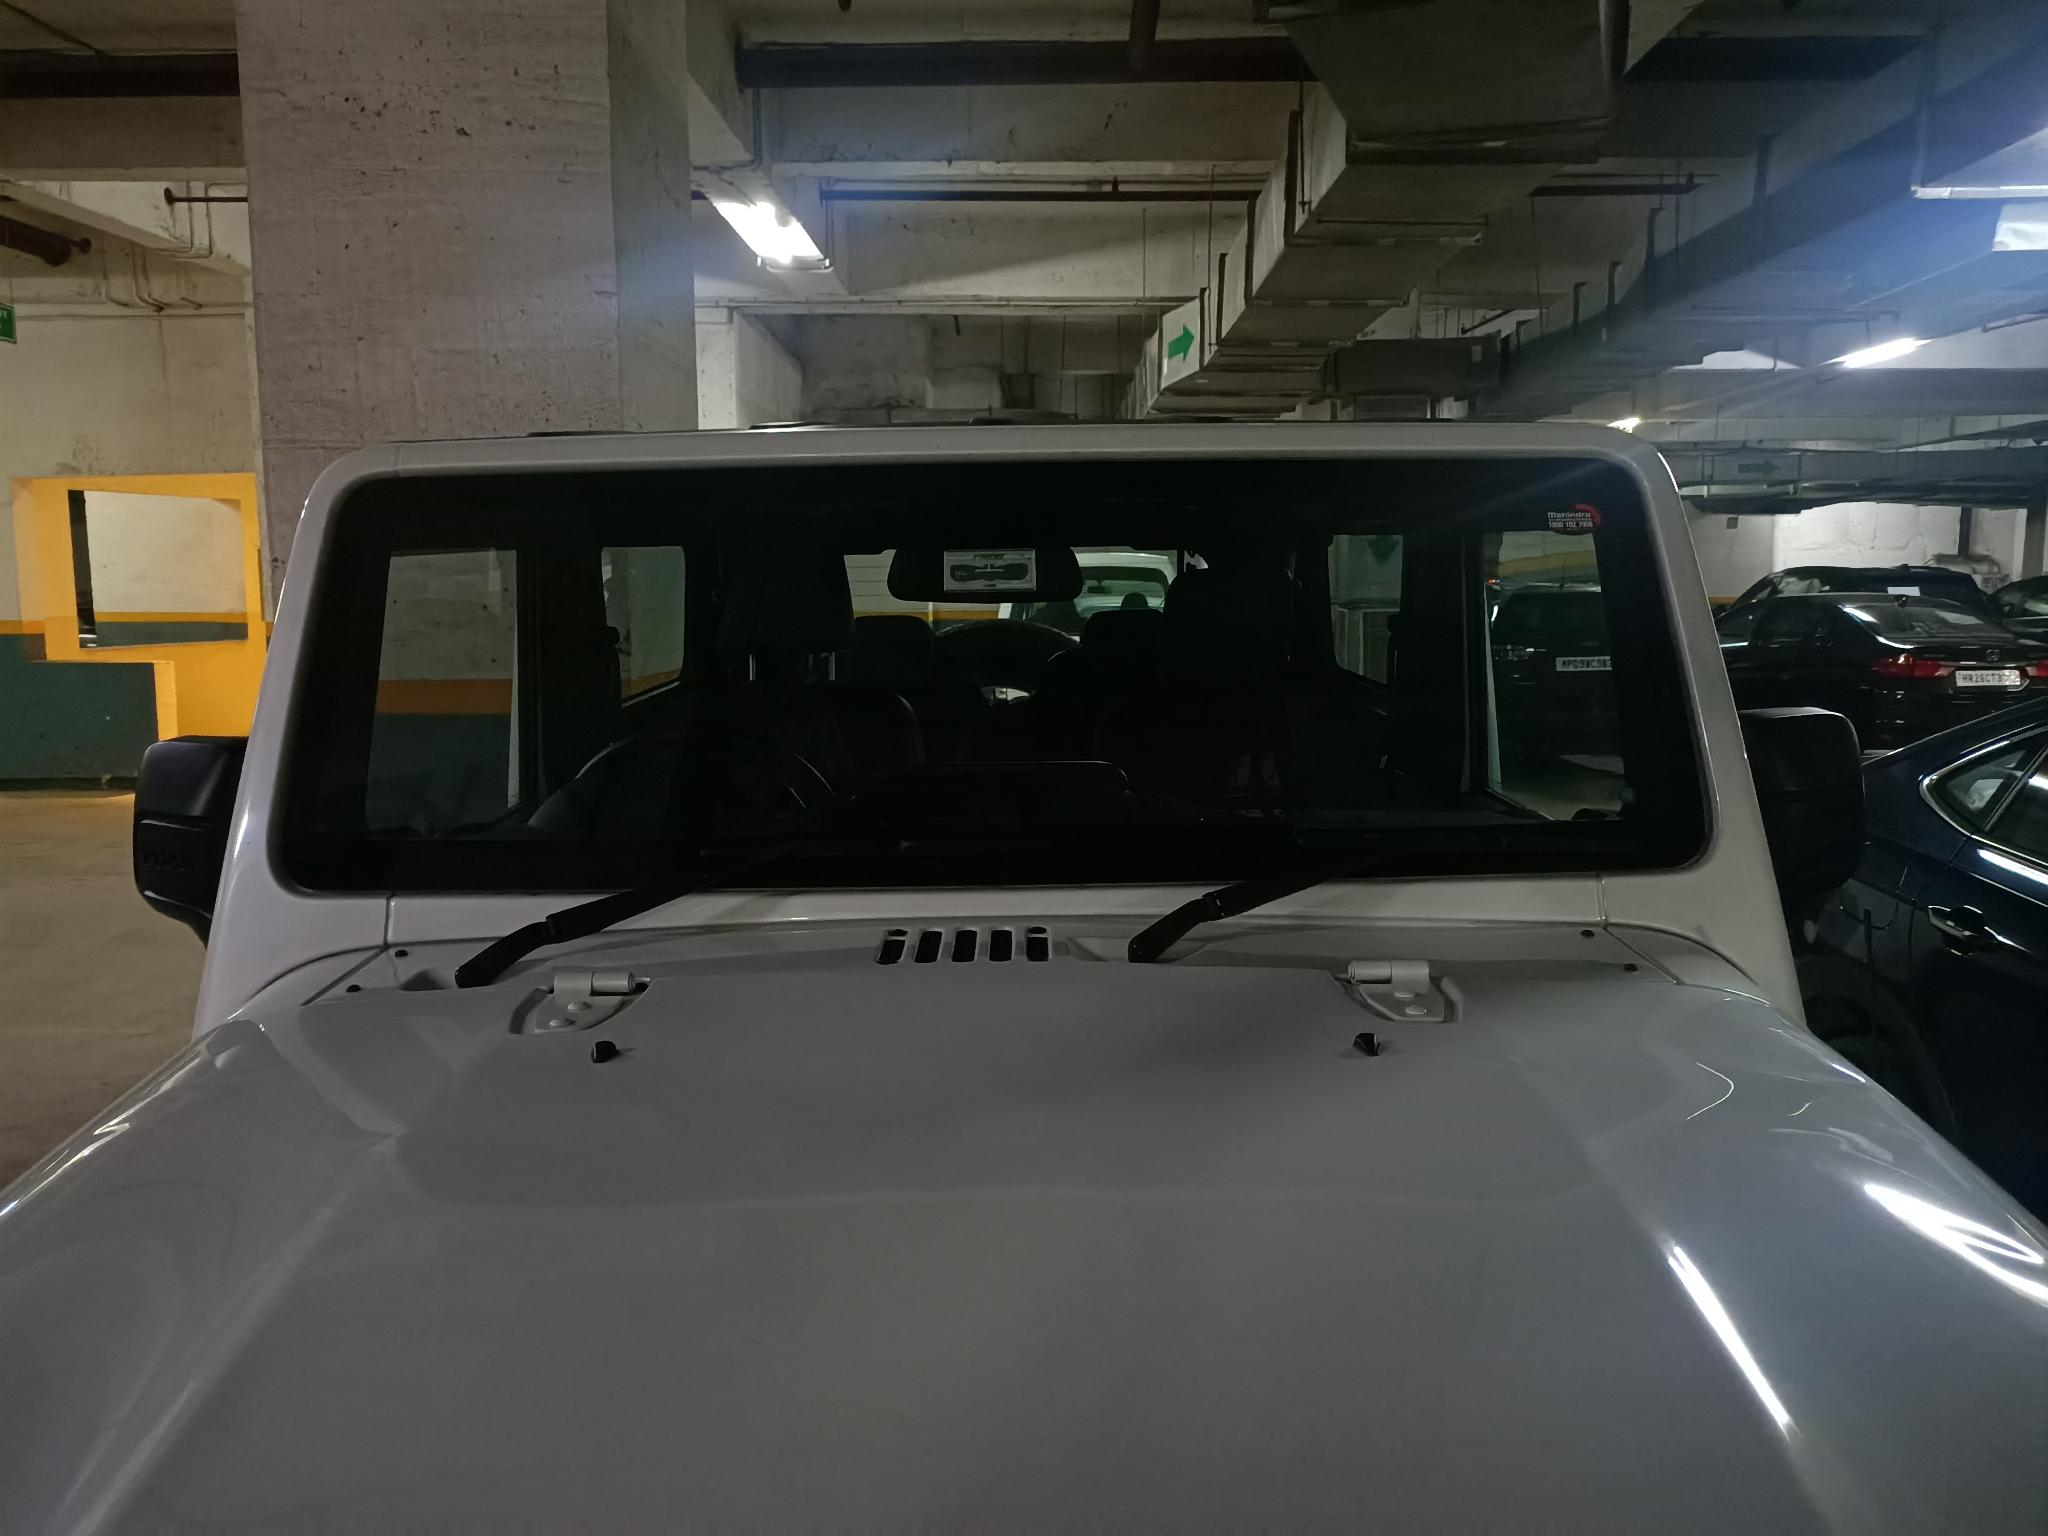FastTag: (938, 546, 1058, 598)
